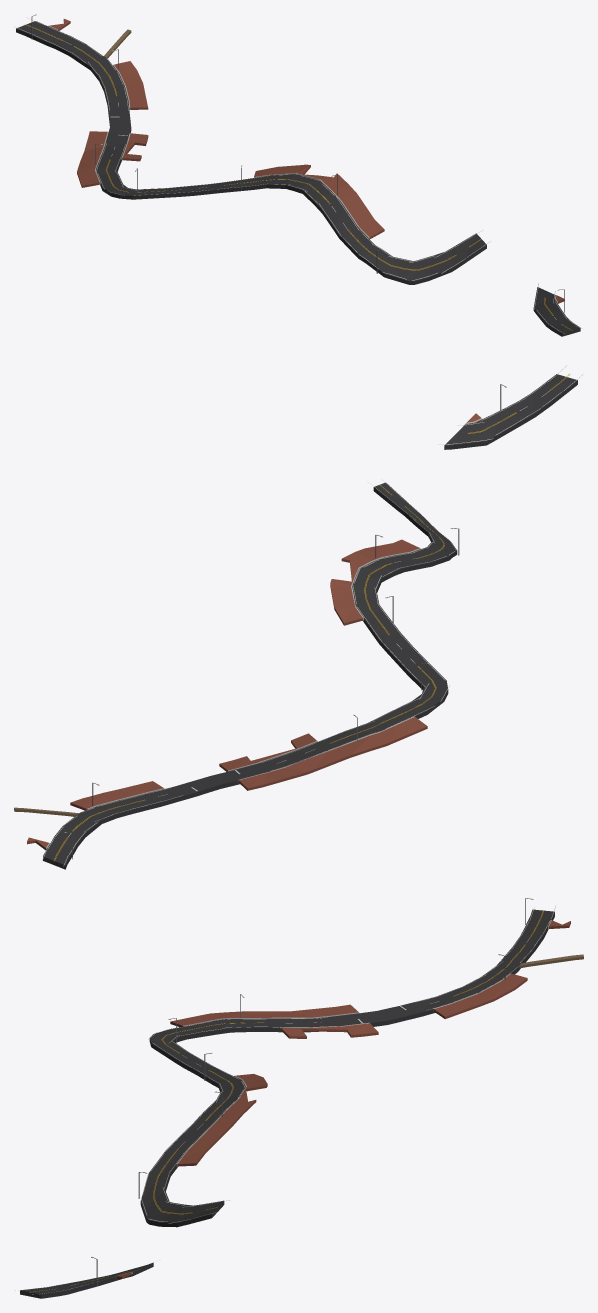
3 views of the same model, one above another, from view 1: azimuth 30°, elevation 25°; view 2: azimuth 150°, elevation 25°; view 3: azimuth 330°, elevation 25° (orthographic). The views are drawn at different scales.
Size of the model in its own units: 77.29 by 25.24 by 298.
